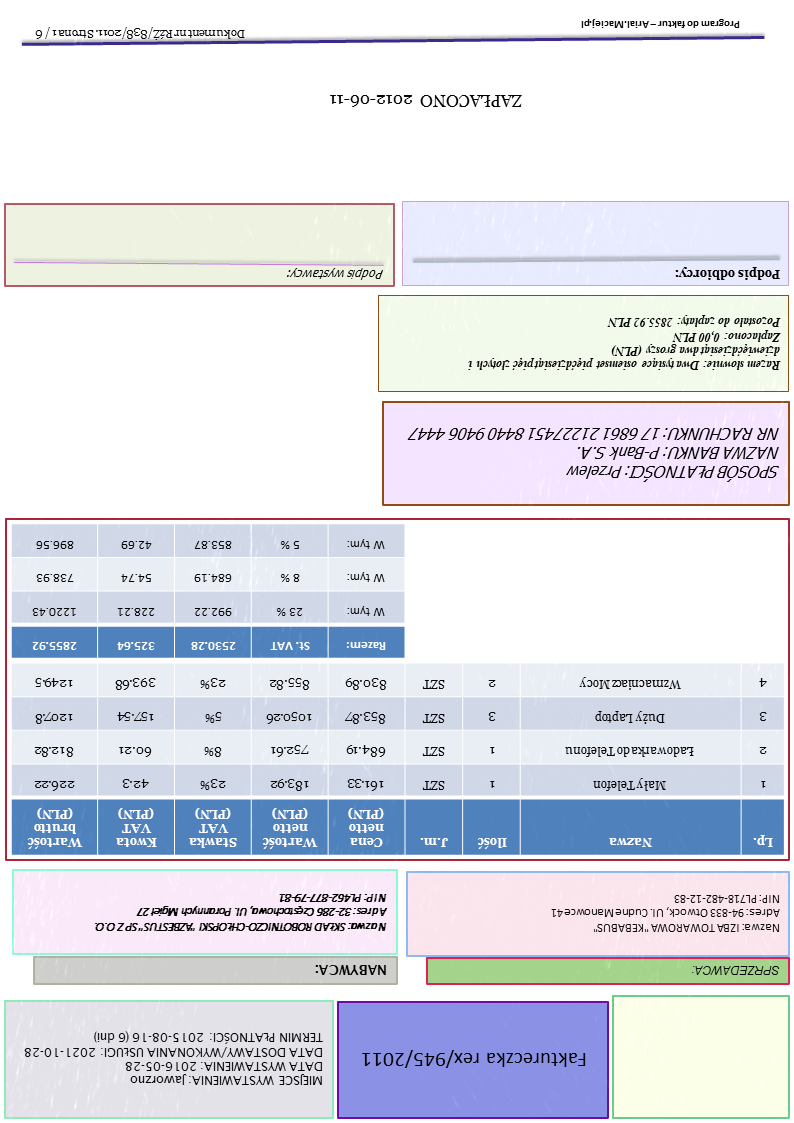Table: (11, 661, 786, 857), (10, 522, 406, 660)
TextBox: (407, 422, 781, 482), (466, 314, 784, 374), (22, 1028, 326, 1089), (93, 890, 391, 935), (549, 892, 784, 937), (361, 1046, 591, 1071), (33, 23, 247, 43), (328, 91, 527, 110), (579, 18, 743, 32), (672, 265, 783, 283), (287, 265, 386, 283), (690, 962, 783, 980), (314, 961, 390, 980)
